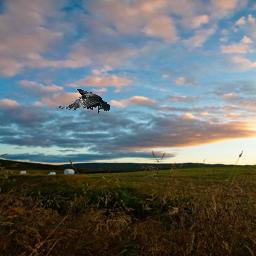Crow: (57, 88, 110, 114)
